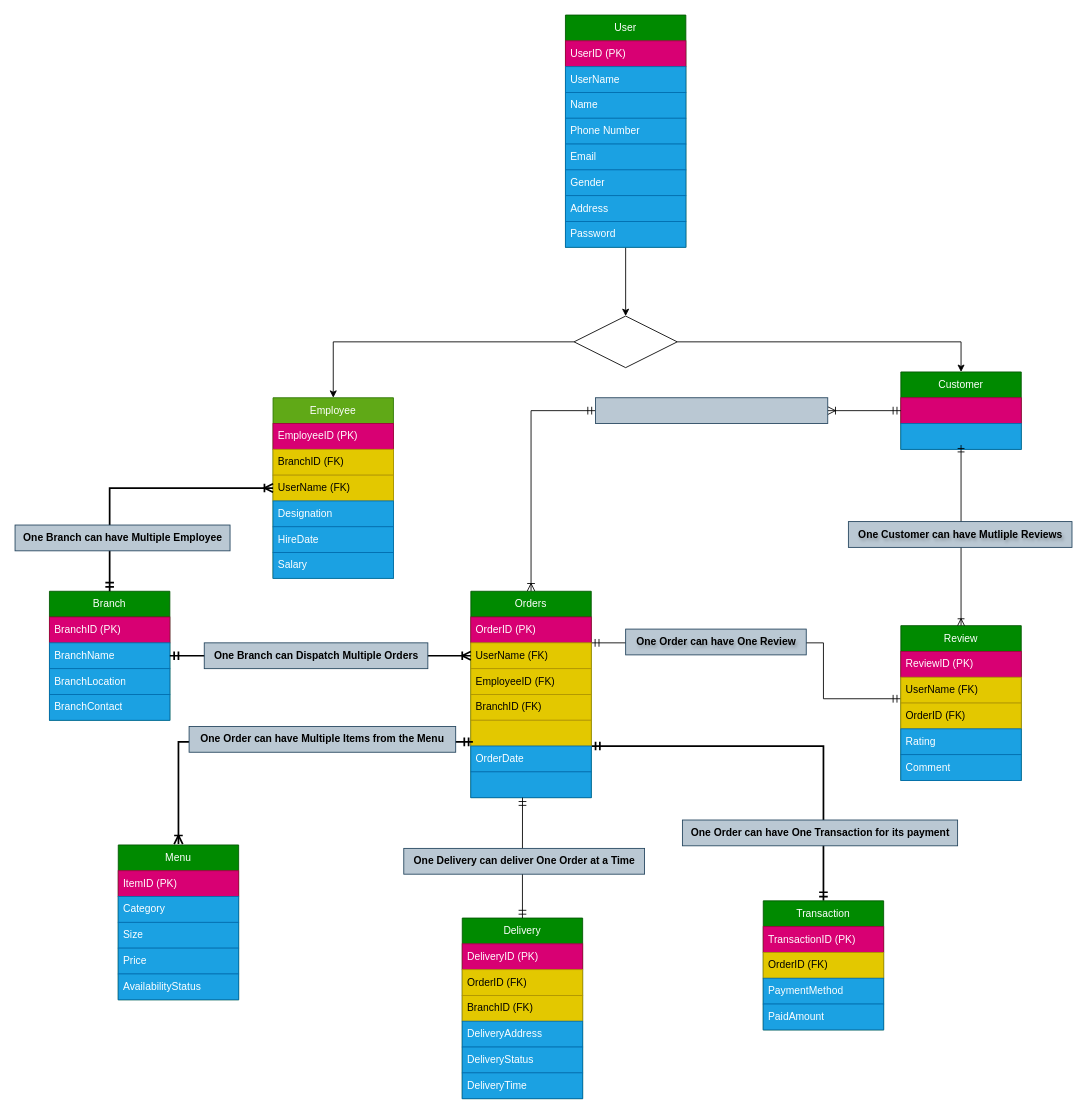
This 1087x1114 diagram has some shape labels left out. The centre of each missing label's shape, as x and y in pixels:
"Inheritance" goes at [625,341].
"NumberofOrders" goes at [960,436].
"One Customer have place Multipule Orders" goes at [711,410].
"OrderTime" goes at [530,784].
"TransactionID (FK)" goes at [530,732].
"UserName (PK)" goes at [960,410].
